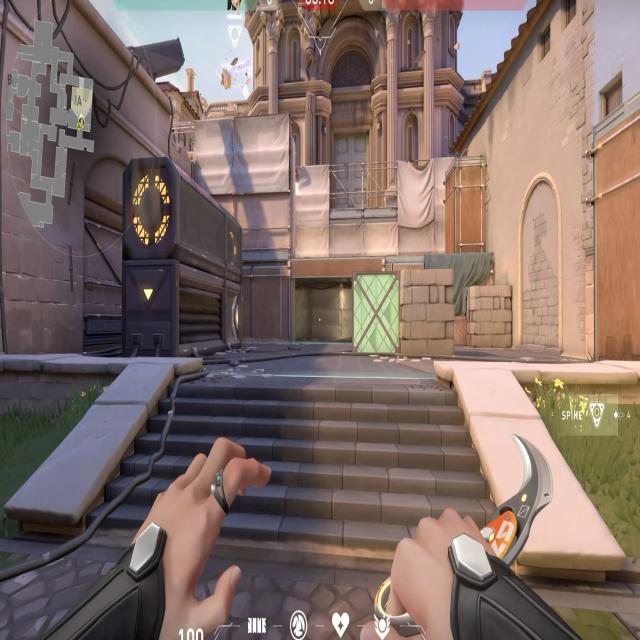A_Heaven_Box: (440, 143, 490, 260)
A_Heaven_Wall: (210, 102, 304, 257)
A_Hell: (280, 250, 370, 346)
A_Site_Box: (342, 262, 459, 359)
